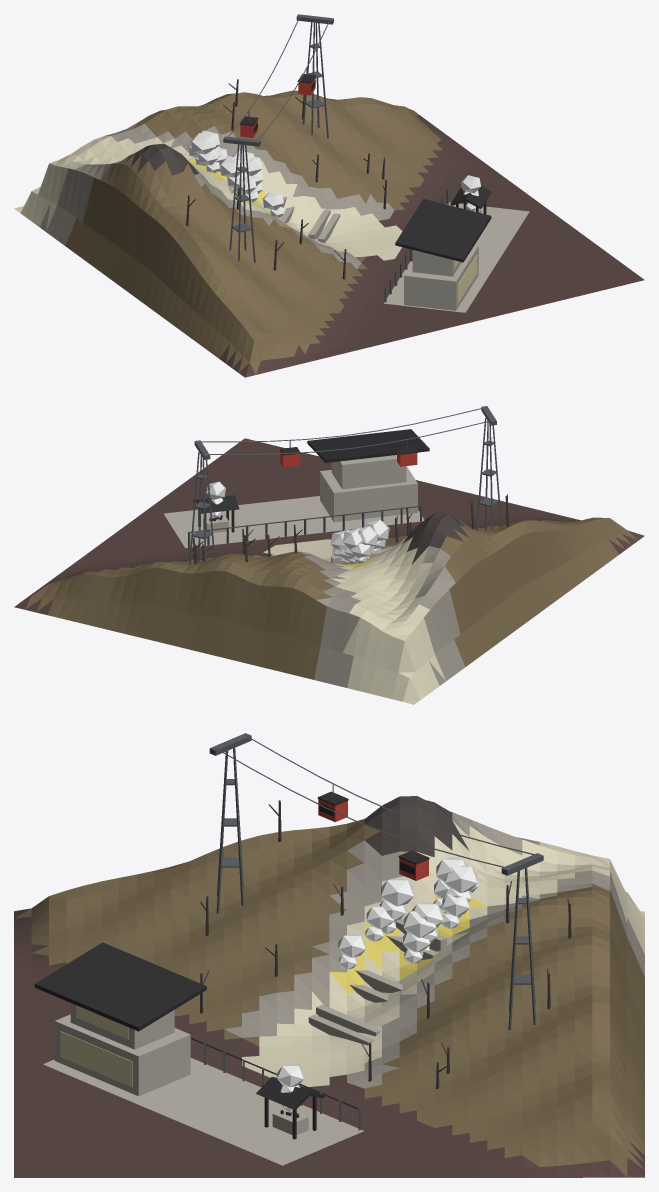
The model's file is owakudani.glb.
3 views of the same model, one above another, from view 1: azimuth 30°, elevation 25°; view 2: azimuth 150°, elevation 25°; view 3: azimuth 270°, elevation 25° (orthographic). The views are drawn at different scales.
Parts seen in each view (by area): view 1: owakudani_scrub, owakudani_terrain, owakudani_sulfur, owakudani_ash, owakudani_concrete, owakudani_roofdark, owakudani_steel, owakudani_steam, owakudani_rock; view 2: owakudani_scrub, owakudani_terrain, owakudani_sulfur, owakudani_concrete, owakudani_ash, owakudani_steel, owakudani_roofdark, owakudani_rock, owakudani_steam, owakudani_red; view 3: owakudani_scrub, owakudani_terrain, owakudani_concrete, owakudani_sulfur, owakudani_ash, owakudani_roofdark, owakudani_steam, owakudani_rock, owakudani_steel, owakudani_yellow, glow_station, owakudani_red (+1 smaller).
Part boxes in pixels (x1,y1,x2,y2): owakudani_scrub: (65,90,442,374); owakudani_terrain: (219,109,644,377); owakudani_sulfur: (14,135,402,260); owakudani_ash: (39,123,394,268); owakudani_concrete: (228,186,529,312); owakudani_roofdark: (240,73,491,262); owakudani_steel: (223,14,448,302); owakudani_steam: (188,130,480,217); owakudani_rock: (131,79,386,279); owakudani_scrub: (25,517,637,679); owakudani_terrain: (14,438,644,614); owakudani_sulfur: (263,536,445,704); owakudani_concrete: (164,455,424,564); owakudani_ash: (252,542,465,687); owakudani_steel: (188,406,501,564); owakudani_roofdark: (193,429,429,532); owakudani_rock: (188,494,509,564); owakudani_steam: (206,481,389,564); owakudani_red: (280,450,417,467); owakudani_scrub: (14,811,644,1176); owakudani_terrain: (14,908,644,1177); owakudani_concrete: (43,919,446,1165); owakudani_sulfur: (242,820,644,1086); owakudani_ash: (224,812,644,1088); owakudani_roofdark: (34,791,429,1139); owakudani_steam: (277,857,478,1112); owakudani_rock: (200,796,571,1088); owakudani_steel: (190,733,543,1130); owakudani_yellow: (330,894,486,992); glow_station: (60,1031,132,1087); owakudani_red: (318,799,428,880).
Bounding box in the file's own units: 22.32 × 8.67 × 22.32.
